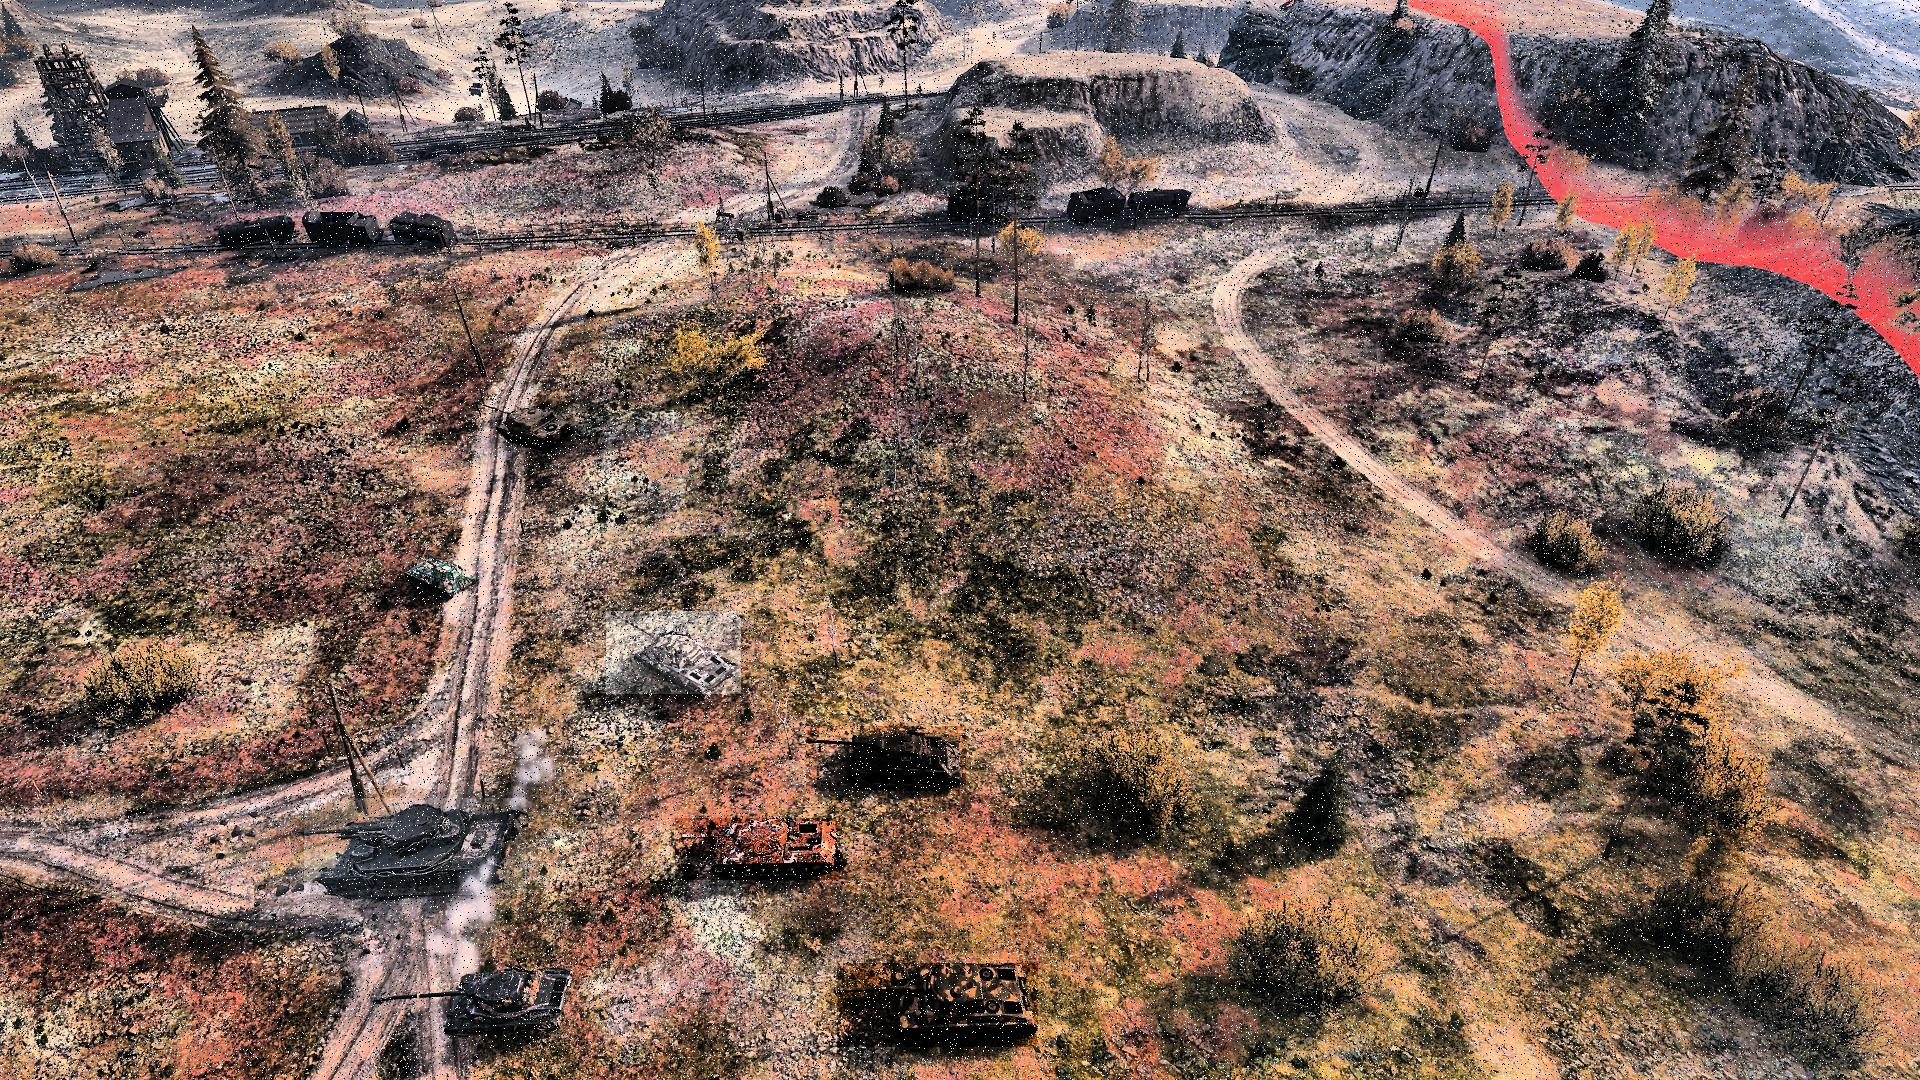military-vehicle: (305, 798, 526, 895), (837, 963, 1038, 1047), (377, 959, 574, 1040), (607, 612, 741, 695), (807, 727, 967, 791), (675, 819, 840, 880), (481, 396, 575, 448), (404, 554, 481, 600)
